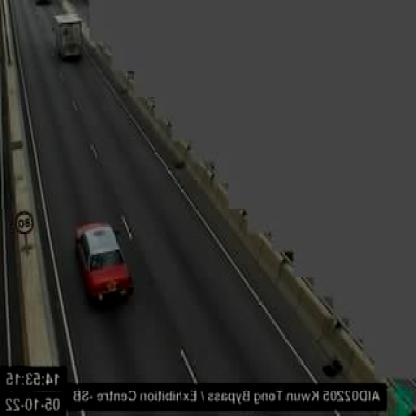Car: (77, 218, 135, 305)
Truck: (56, 12, 83, 61)
